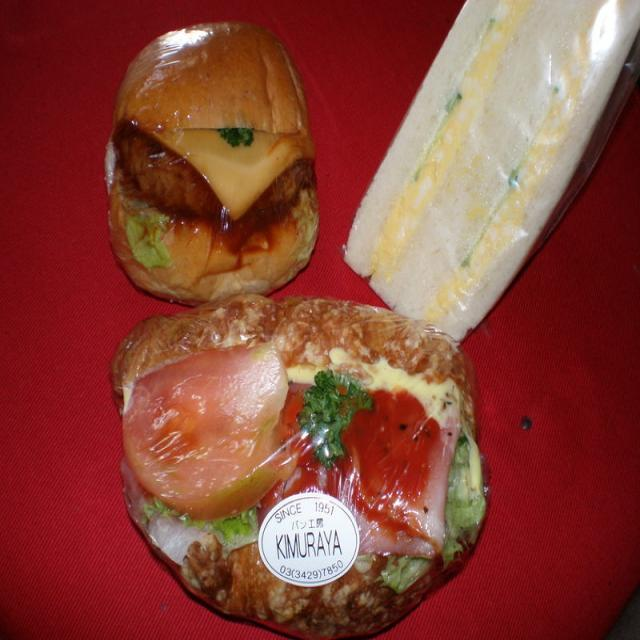三明治: (88, 0, 640, 640)
